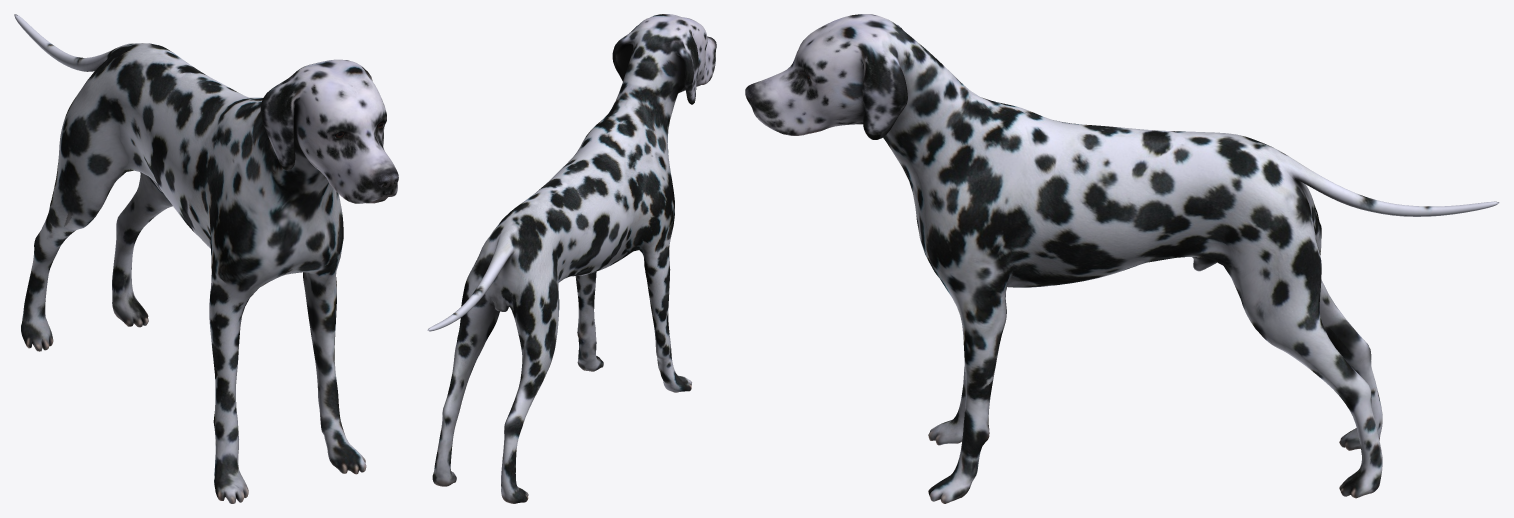
The model's file is dalmata.obj.
3 views of the same model, side by side, from view 1: azimuth 30°, elevation 25°; view 2: azimuth 150°, elevation 25°; view 3: azimuth 270°, elevation 25° (orthographic). The views are drawn at different scales.
Parts seen in each view (by area): view 1: Dog_body; view 2: Dog_body; view 3: Dog_body.
Boxes of the visible parts, left/top/right/bottom form: Dog_body: left=14, top=14, right=397, bottom=503; Dog_body: left=427, top=14, right=716, bottom=503; Dog_body: left=748, top=14, right=1499, bottom=503.
Bounding box in the file's own units: 0.1544 × 0.4478 × 0.6845.
